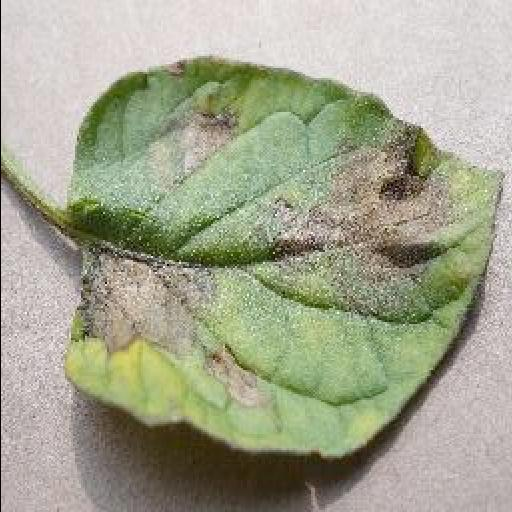disease_tomato: (65, 58, 507, 460)
